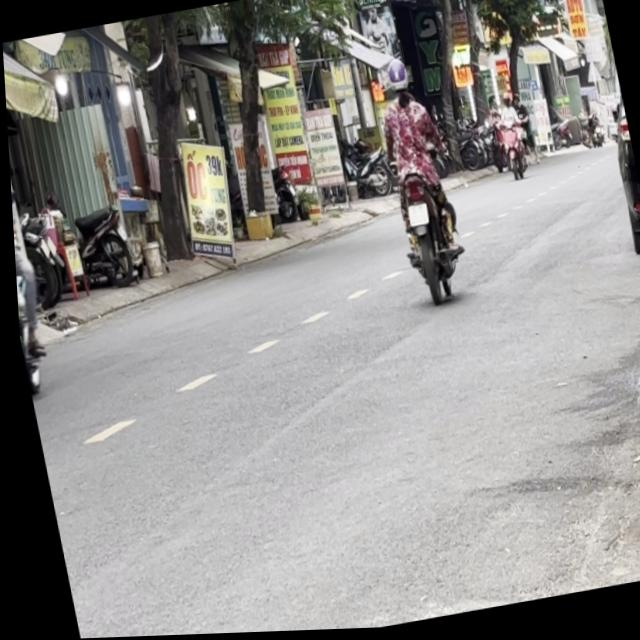helmet: (379, 57, 409, 102)
licenseplate: (362, 51, 469, 307), (5, 109, 55, 408)
nohelmet: (403, 205, 426, 228)
